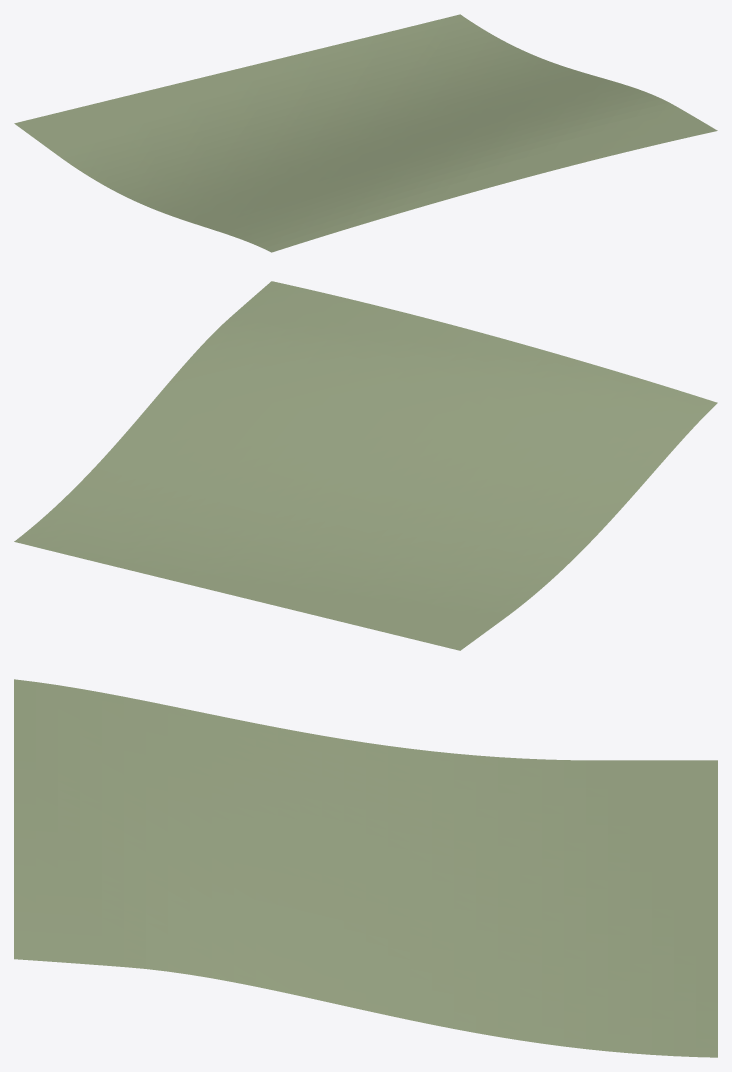
File: valley-6-8.glb
The picture shows the model from 3 angles, top to bottom: view 1: azimuth 30°, elevation 25°; view 2: azimuth 150°, elevation 25°; view 3: azimuth 270°, elevation 25°; orthographic projection. The views are drawn at different scales.
Visible parts, largest first — view 1: valley-6-8; view 2: valley-6-8; view 3: valley-6-8.
Boxes of the visible parts, <box> form: valley-6-8: <box>14,14,717,252</box>; valley-6-8: <box>14,281,717,650</box>; valley-6-8: <box>14,679,717,1057</box>.
Size of the model in its own units: 256 by 40.25 by 256.
